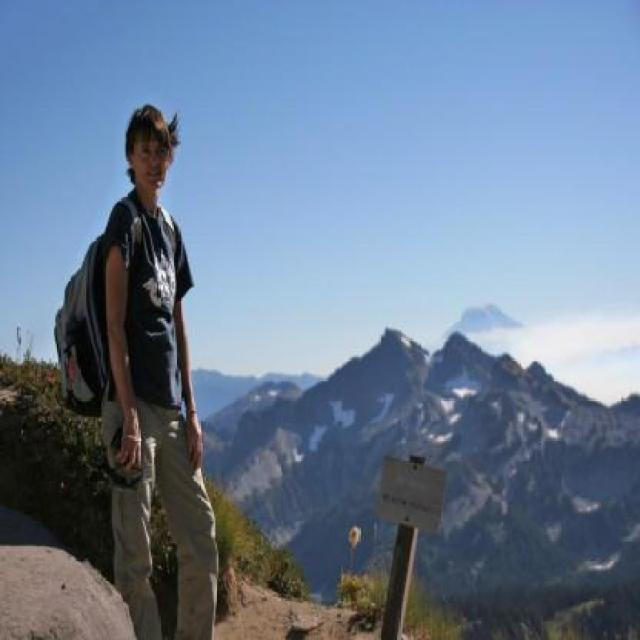backpack: (54, 226, 112, 423), (125, 194, 143, 280), (160, 206, 177, 266)
